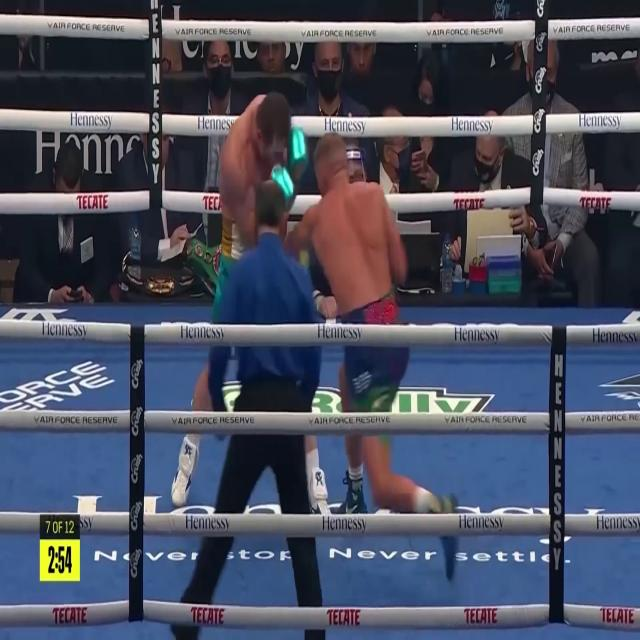boxer_1: (314, 135, 392, 313)
boxer_2: (219, 93, 288, 220)
gloves_2: (288, 124, 306, 168), (272, 165, 293, 198)
